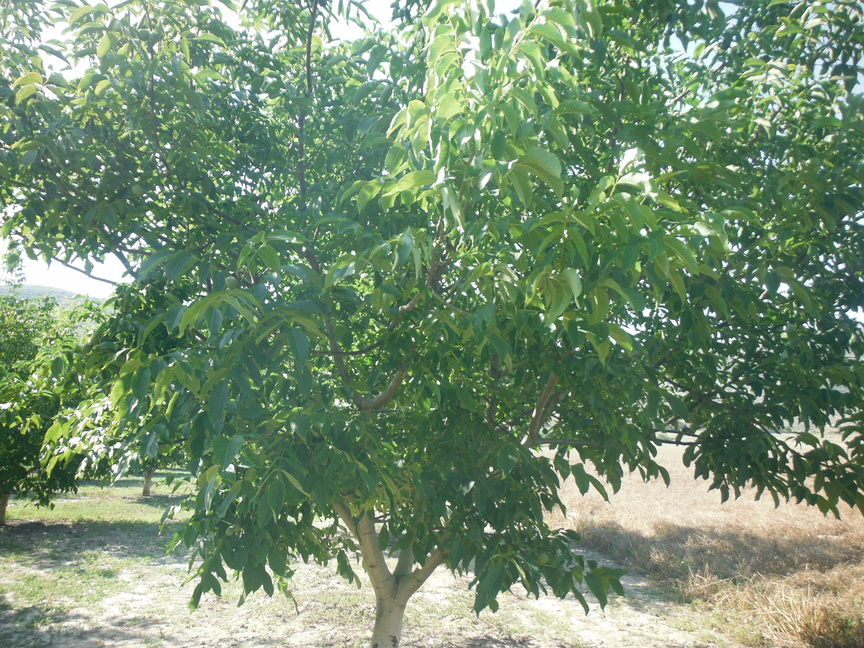walnut: (221, 273, 242, 291), (129, 181, 147, 199), (135, 25, 150, 43), (80, 131, 95, 149), (147, 27, 161, 45), (11, 104, 29, 118), (692, 180, 706, 198), (702, 191, 715, 210), (535, 551, 550, 567), (657, 7, 670, 25), (311, 390, 326, 403), (847, 336, 860, 351), (810, 376, 823, 391), (223, 521, 235, 537), (89, 332, 100, 349), (84, 183, 98, 196), (431, 429, 445, 442), (155, 305, 168, 318), (80, 342, 92, 355), (230, 522, 242, 535), (247, 191, 258, 204), (256, 190, 265, 205), (175, 228, 185, 241), (141, 275, 152, 286), (190, 239, 200, 251), (118, 304, 127, 314), (117, 296, 125, 307), (116, 291, 125, 299)
